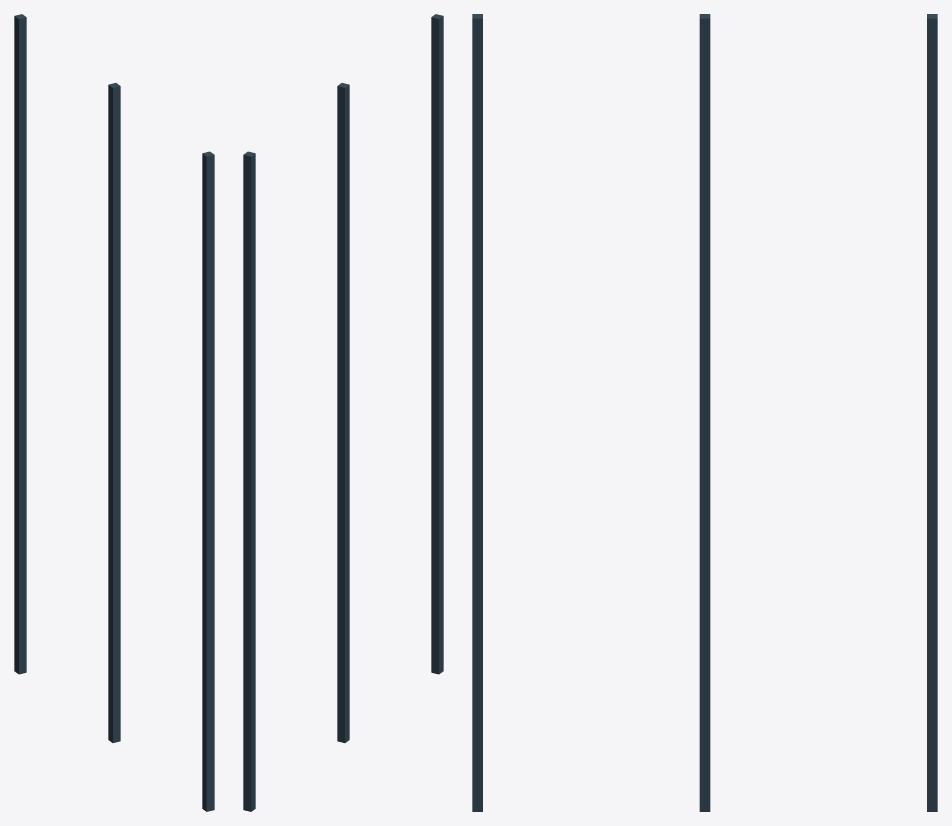
File: v02-transit-world-03-01-07.glb
The picture shows the model from 3 angles, left to right: view 1: azimuth 30°, elevation 25°; view 2: azimuth 150°, elevation 25°; view 3: azimuth 270°, elevation 25°; orthographic projection. The views are drawn at different scales.
Parts seen in each view (by area): view 1: v02-transit-world-03-01-07; view 2: v02-transit-world-03-01-07; view 3: v02-transit-world-03-01-07.
Part boxes in pixels (x1,y1,x2,y2): v02-transit-world-03-01-07: (14, 14, 214, 811); v02-transit-world-03-01-07: (243, 14, 443, 811); v02-transit-world-03-01-07: (472, 14, 937, 811).
Size of the model in its own units: 1.2 by 96.25 by 51.19.
